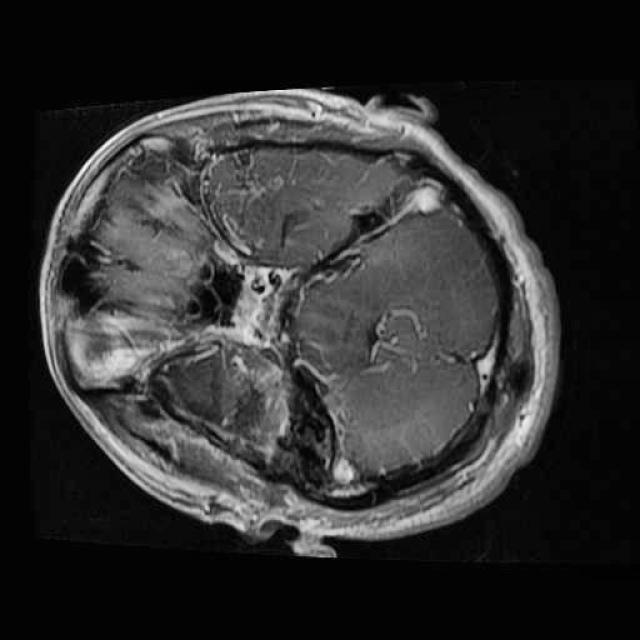Non-Tumor: (203, 335, 296, 465)
